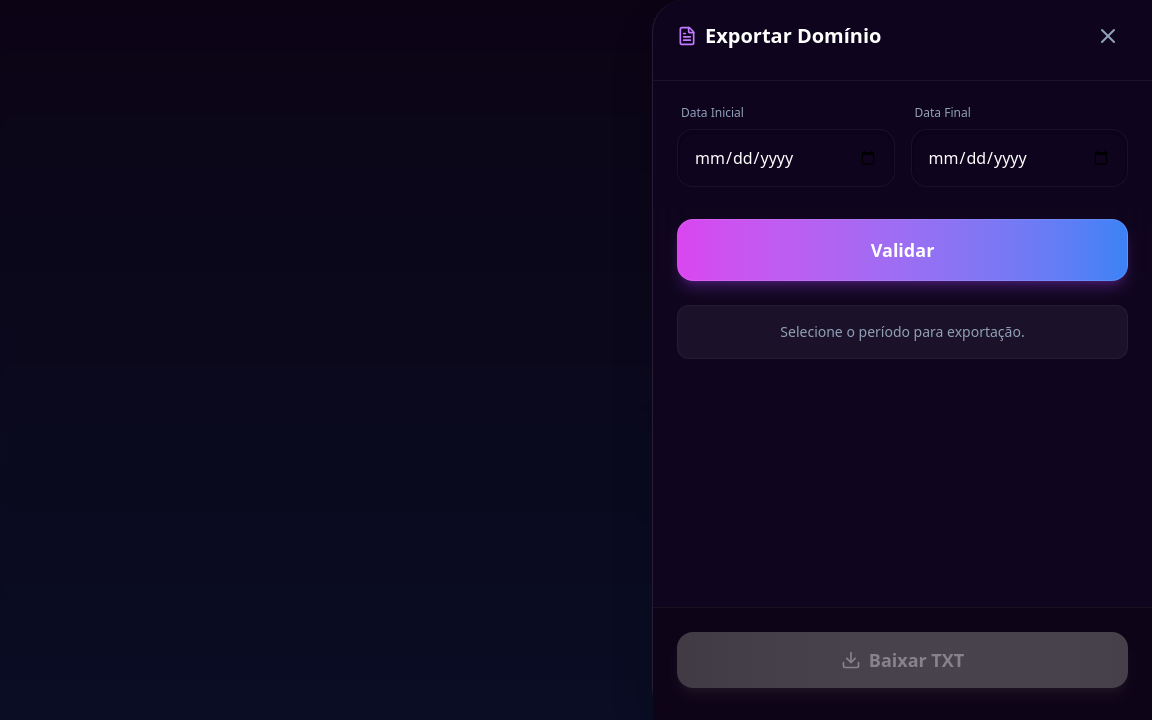
Test: ExportDominioModal & TransactionHistoryPage › Modal Behavior › T07 — Não valida sem datas obrigatórias
This screenshot has width=1152, height=720.
Click the button "Validar".
click(902, 250)  # box [677,219,1128,281]
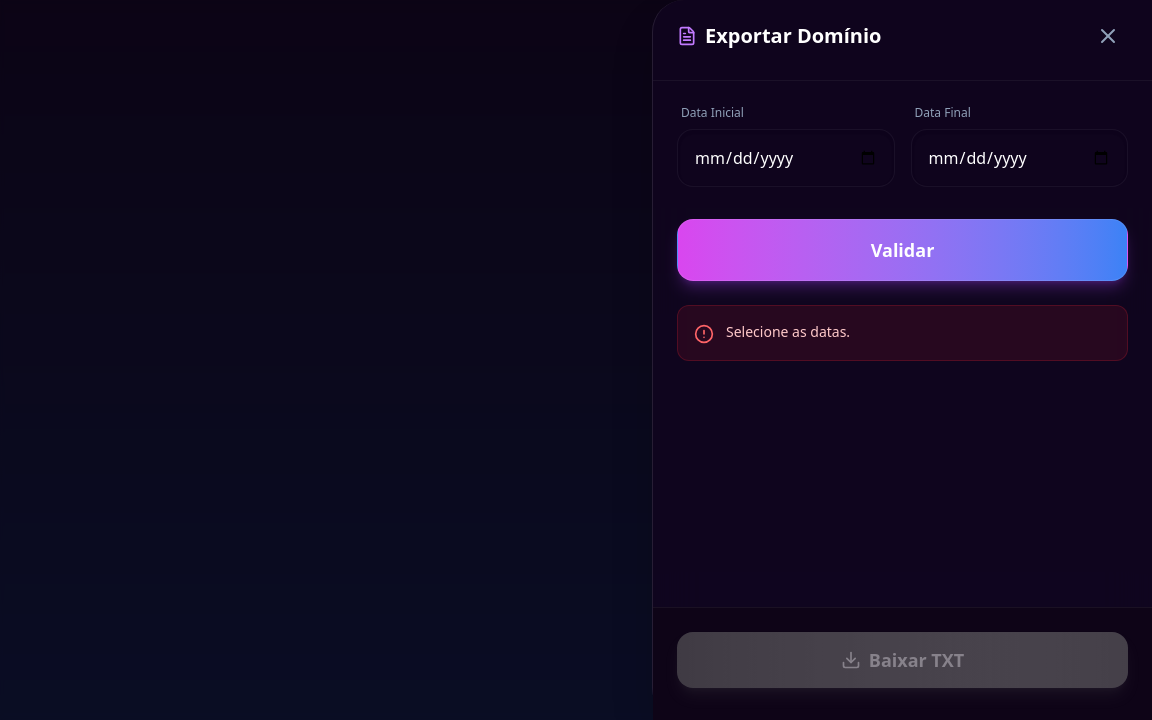
Result: the text "Selecione as datas." is shown at [726,322,850,342]
